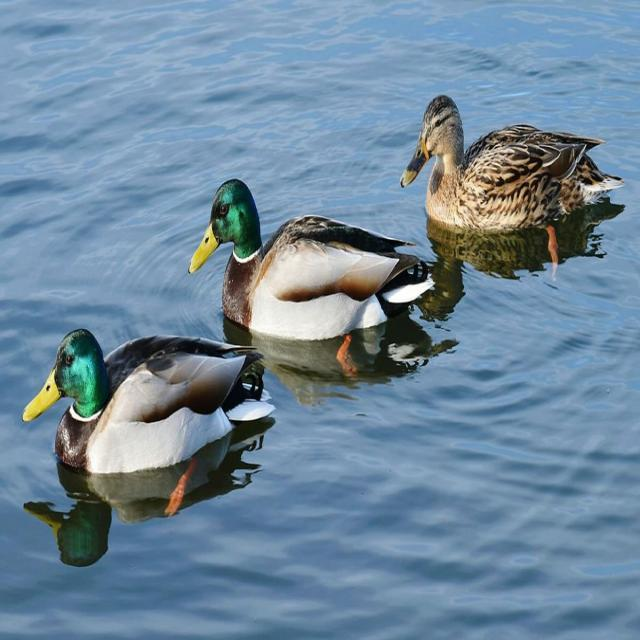Duck: (189, 171, 436, 398), (6, 320, 277, 496), (395, 88, 629, 252)
